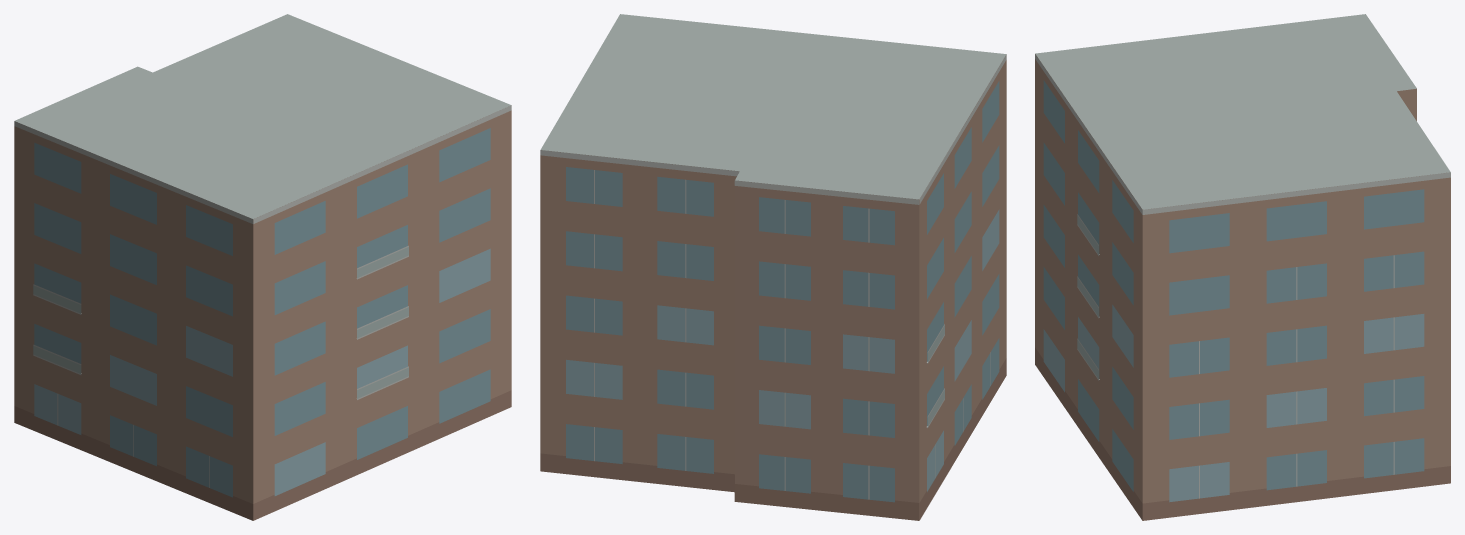
Rendered from survey-upis-32524675.glb.
3 views of the same model, side by side, from view 1: azimuth 30°, elevation 25°; view 2: azimuth 150°, elevation 25°; view 3: azimuth 270°, elevation 25° (orthographic). The views are drawn at different scales.
Parts seen in each view (by area): view 1: survey-upis-32524675.tmp; view 2: survey-upis-32524675.tmp; view 3: survey-upis-32524675.tmp.
Boxes of the visible parts, left/top/right/bottom form: survey-upis-32524675.tmp: left=14, top=14, right=511, bottom=520; survey-upis-32524675.tmp: left=540, top=14, right=1006, bottom=520; survey-upis-32524675.tmp: left=1035, top=14, right=1450, bottom=520.
Size of the model in its own units: 19.43 by 14.39 by 17.44.
